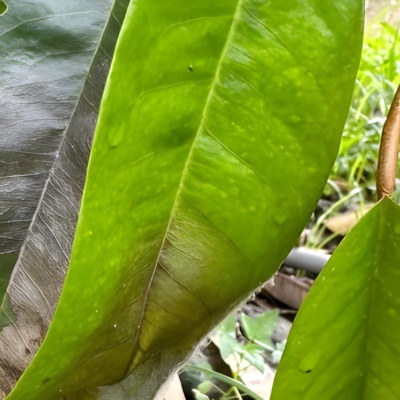Leaf_Rhizoctonia: (1, 0, 370, 400)
